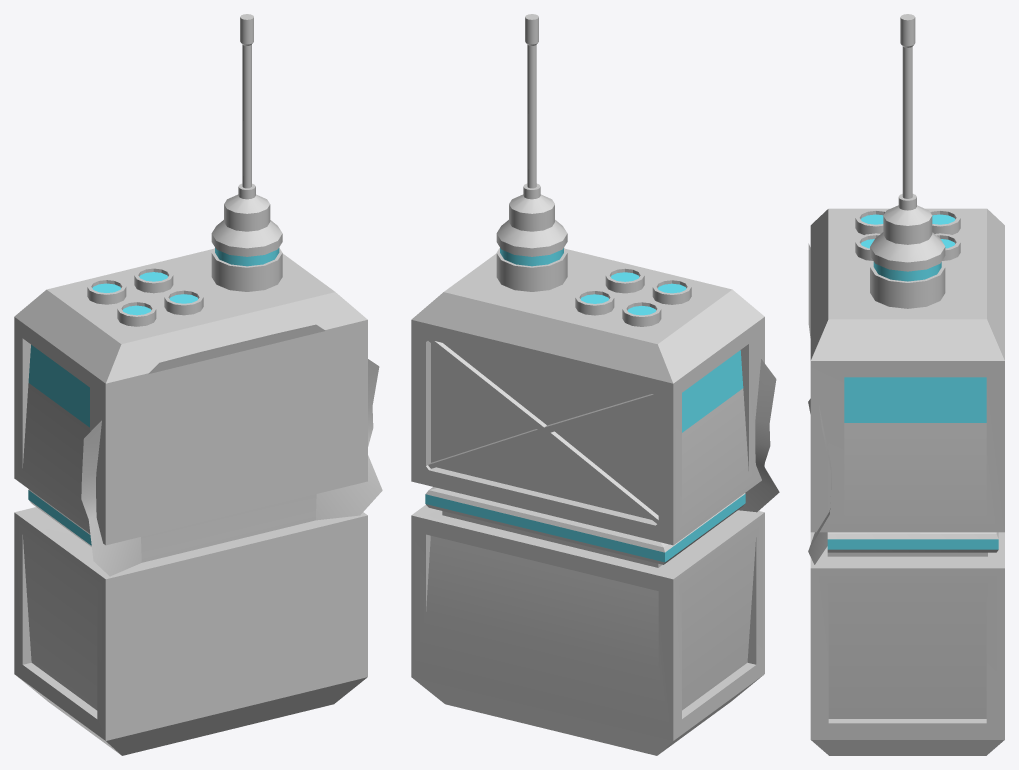
File: Mod_BackPlate_Recon2.fbx
The picture shows the model from 3 angles, left to right: view 1: azimuth 30°, elevation 25°; view 2: azimuth 150°, elevation 25°; view 3: azimuth 270°, elevation 25°; orthographic projection. The views are drawn at different scales.
Parts seen in each view (by area): view 1: Mod_BackPlate_Recon2; view 2: Mod_BackPlate_Recon2; view 3: Mod_BackPlate_Recon2.
Boxes of the visible parts, bbox=[...] form: Mod_BackPlate_Recon2: bbox=[14, 14, 382, 755]; Mod_BackPlate_Recon2: bbox=[411, 14, 779, 755]; Mod_BackPlate_Recon2: bbox=[808, 14, 1004, 755].
Bounding box in the file's own units: 326 × 710 × 177.
